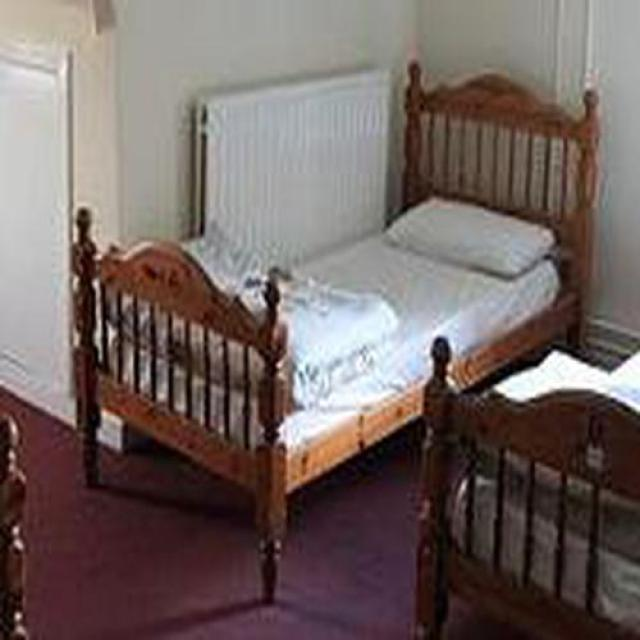bed: (70, 61, 599, 605)
